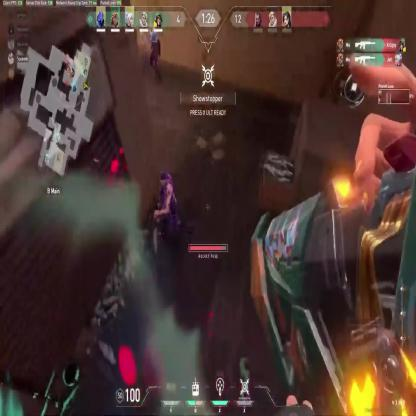enemy: (154, 172, 180, 240), (148, 27, 164, 82)
enemy_head: (160, 172, 168, 186), (151, 30, 156, 40)
